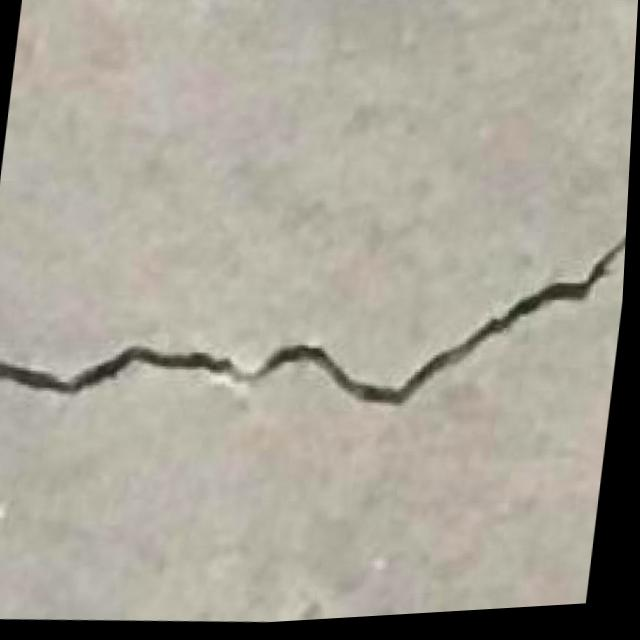Crack: (0, 177, 632, 460)
